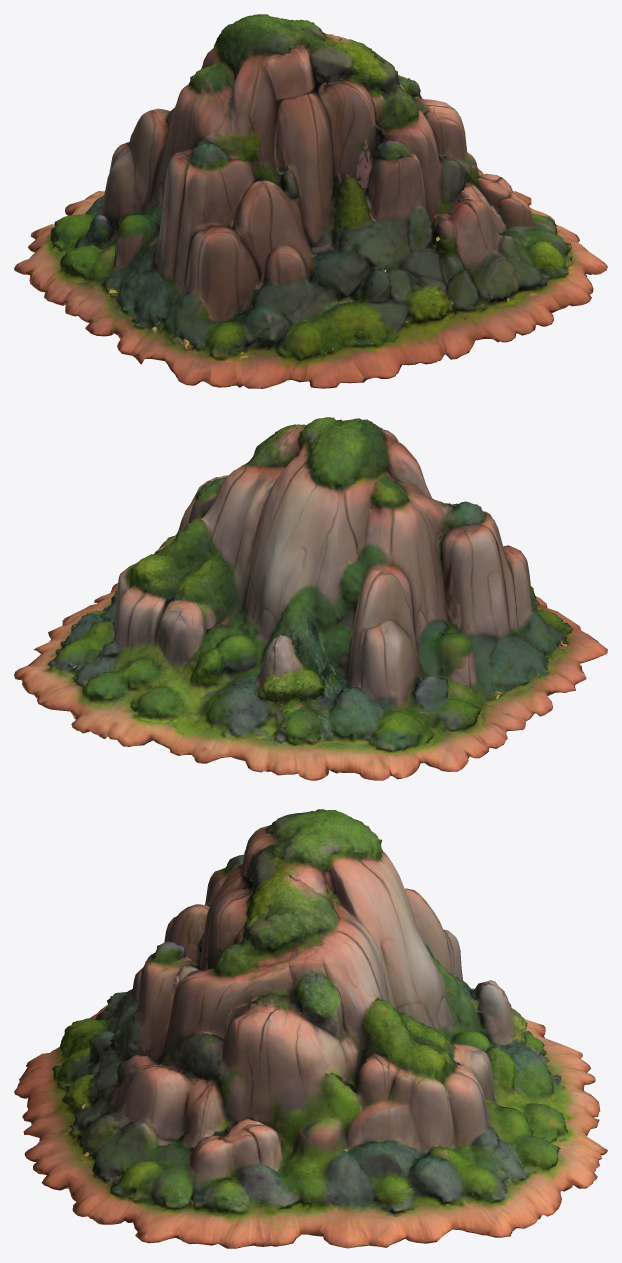
Rendered from Meshy_AI_Mountain_1016084256_texture.fbx.
The picture shows the model from 3 angles, top to bottom: view 1: azimuth 30°, elevation 25°; view 2: azimuth 150°, elevation 25°; view 3: azimuth 270°, elevation 25°; orthographic projection. The views are drawn at different scales.
Visible parts, largest first — view 1: Mesh_0; view 2: Mesh_0; view 3: Mesh_0.
Boxes of the visible parts, x1,y1,x2,y2 form: Mesh_0: [14, 14, 607, 388]; Mesh_0: [14, 417, 607, 780]; Mesh_0: [14, 809, 607, 1248].
Bounding box in the file's own units: 188 × 99.39 × 186.
1 material, 1 textured.
